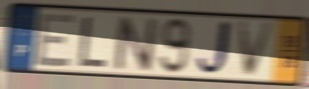9: (157, 16, 193, 76)
E: (33, 12, 78, 68)
J: (193, 18, 234, 79)
L: (77, 15, 110, 69)
N: (113, 14, 159, 74)
V: (236, 20, 278, 80)
